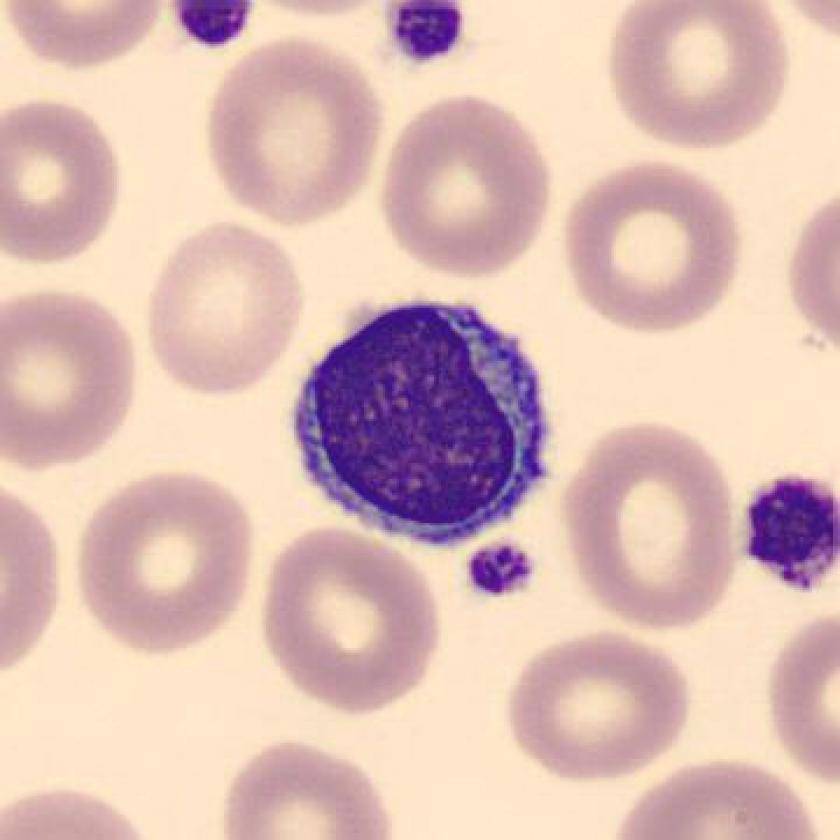lymphocyte: (283, 286, 561, 561)
